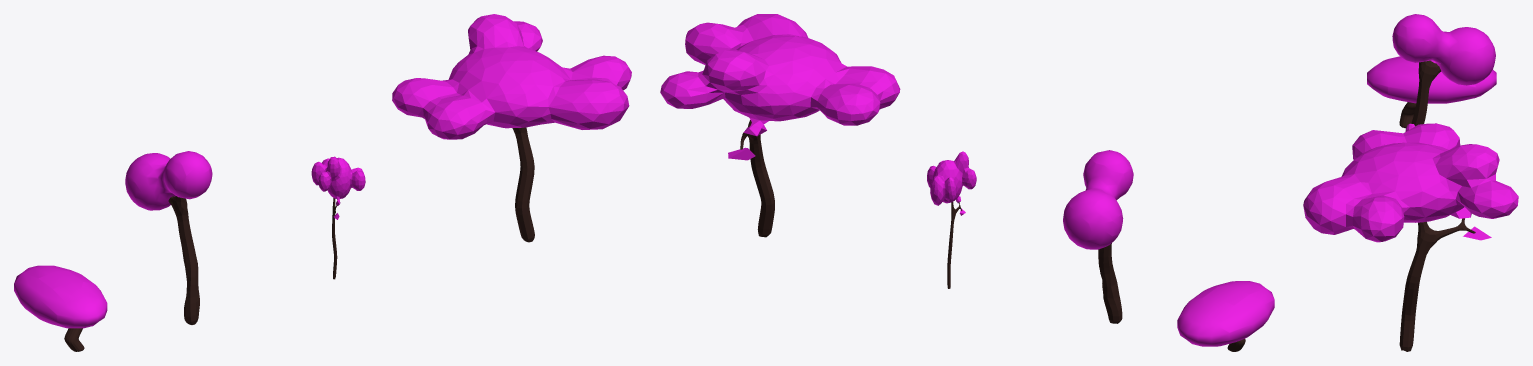
File: First Tree.fbx
3 views of the same model, side by side, from view 1: azimuth 30°, elevation 25°; view 2: azimuth 150°, elevation 25°; view 3: azimuth 270°, elevation 25° (orthographic). The views are drawn at different scales.
Visible parts, largest first — view 1: Tree 1, Tree 2, Tree 3, Tree 4; view 2: Tree 1, Tree 2, Tree 3, Tree 4; view 3: Tree 1, Tree 2, Tree 3.
Part boxes in pixels (x1,y1,x2,y2): Tree 1: (392,14,631,242); Tree 2: (125,151,212,324); Tree 3: (14,265,107,351); Tree 4: (311,156,365,279); Tree 1: (660,14,900,237); Tree 2: (1063,150,1133,323); Tree 3: (1177,281,1274,351); Tree 4: (927,151,976,288); Tree 1: (1303,123,1518,351); Tree 2: (1392,14,1495,126); Tree 3: (1367,56,1496,128).
Size of the model in its own units: 4814 by 1591 by 1536.
